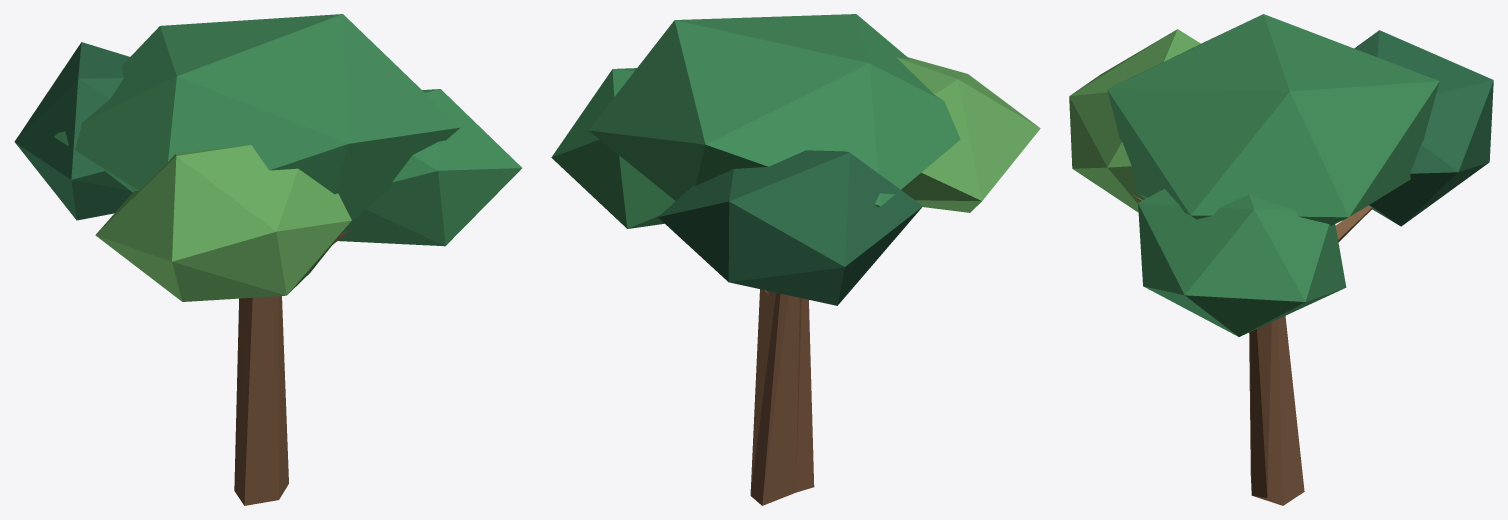
File: world_tree_canopy_l.obj
3 renders of one model, left to right at view 1: azimuth 30°, elevation 25°; view 2: azimuth 150°, elevation 25°; view 3: azimuth 270°, elevation 25°, orthographic. The views are drawn at different scales.
Visible parts, largest first — view 1: world_tree_canopy_l; view 2: world_tree_canopy_l; view 3: world_tree_canopy_l.
Boxes of the visible parts, box(x1,y1,x2,y2) form: world_tree_canopy_l: box(14, 14, 521, 505); world_tree_canopy_l: box(551, 14, 1040, 505); world_tree_canopy_l: box(1069, 14, 1493, 505).
Bounding box in the file's own units: 17.93 × 19.43 × 16.66.
